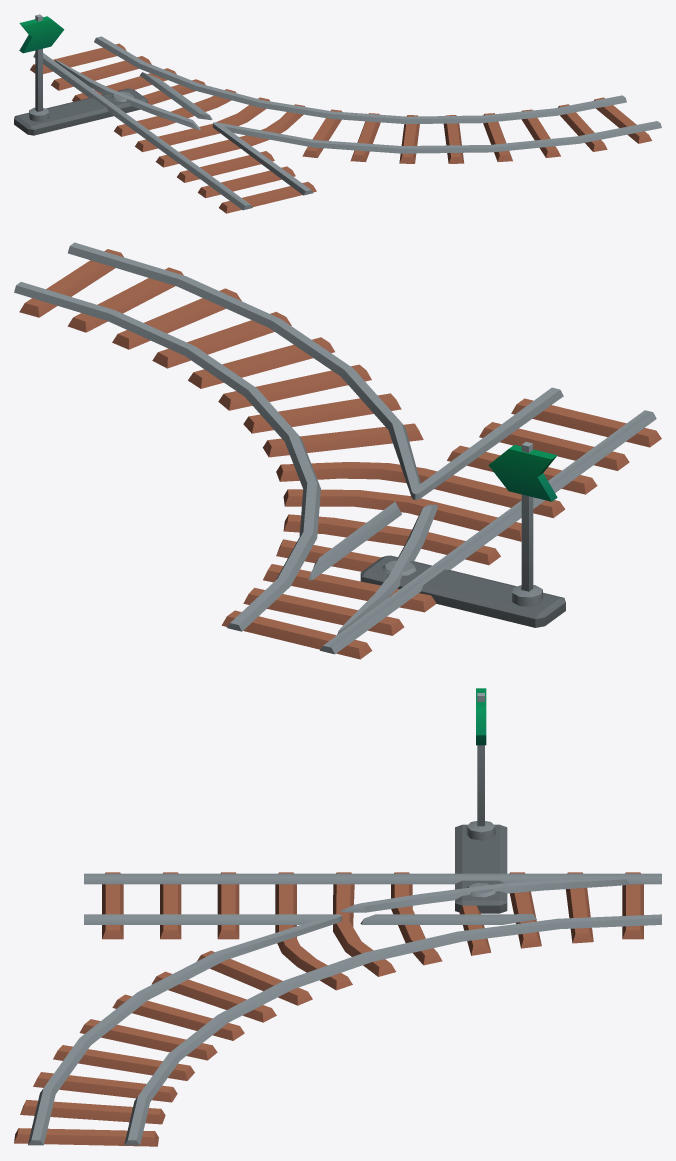
Rendered from tracks_split_left.glb.
3 views of the same model, one above another, from view 1: azimuth 30°, elevation 25°; view 2: azimuth 150°, elevation 25°; view 3: azimuth 270°, elevation 25° (orthographic). The views are drawn at different scales.
Parts seen in each view (by area): view 1: tracks_split_left, tracks_split_left_arrow, tracks_split_left_part; view 2: tracks_split_left, tracks_split_left_arrow, tracks_split_left_part; view 3: tracks_split_left, tracks_split_left_arrow, tracks_split_left_part.
Part boxes in pixels (left/top/right/bottom): tracks_split_left: left=14, top=36, right=661, bottom=213; tracks_split_left_arrow: left=19, top=14, right=64, bottom=121; tracks_split_left_part: left=55, top=60, right=133, bottom=101; tracks_split_left: left=14, top=242, right=661, bottom=659; tracks_split_left_arrow: left=488, top=442, right=557, bottom=606; tracks_split_left_part: left=337, top=560, right=416, bottom=634; tracks_split_left: left=14, top=824, right=661, bottom=1146; tracks_split_left_arrow: left=466, top=688, right=495, bottom=840; tracks_split_left_part: left=467, top=878, right=629, bottom=897.
Bounding box in the file's own units: 2.62 × 0.575 × 2.24.
1 material, 1 textured.
